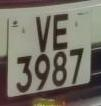3: (13, 50, 35, 98)
7: (69, 45, 87, 88)
8: (51, 48, 70, 90)
9: (33, 52, 53, 93)
E: (51, 9, 71, 54)
V: (33, 12, 53, 54)
